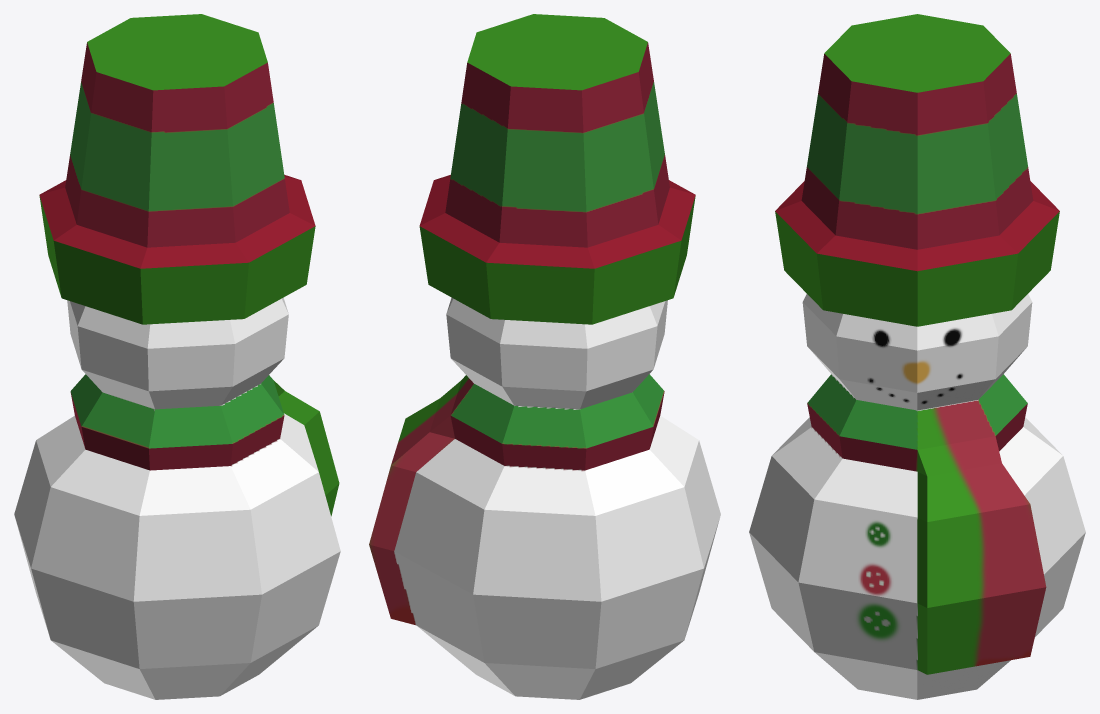
Rendered from Snow Man .fbx.
3 renders of one model, left to right at view 1: azimuth 30°, elevation 25°; view 2: azimuth 150°, elevation 25°; view 3: azimuth 270°, elevation 25°, orthographic.
Visible parts, largest first — view 1: Sphere.003; view 2: Sphere.003; view 3: Sphere.003.
Boxes of the visible parts, box(x1,y1,x2,y2) form: Sphere.003: box(14, 14, 340, 699); Sphere.003: box(369, 14, 720, 699); Sphere.003: box(749, 14, 1085, 699).
Bounding box in the file's own units: 2 × 4.14 × 2.14.
